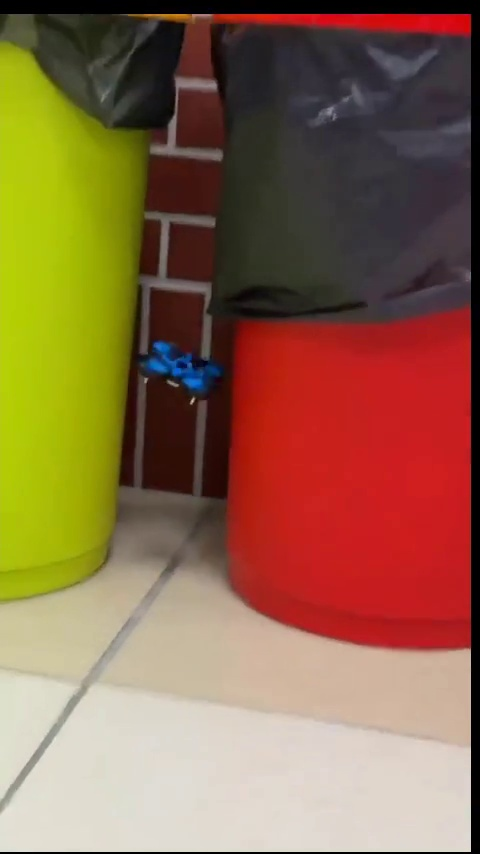drone: (133, 341, 233, 400)
